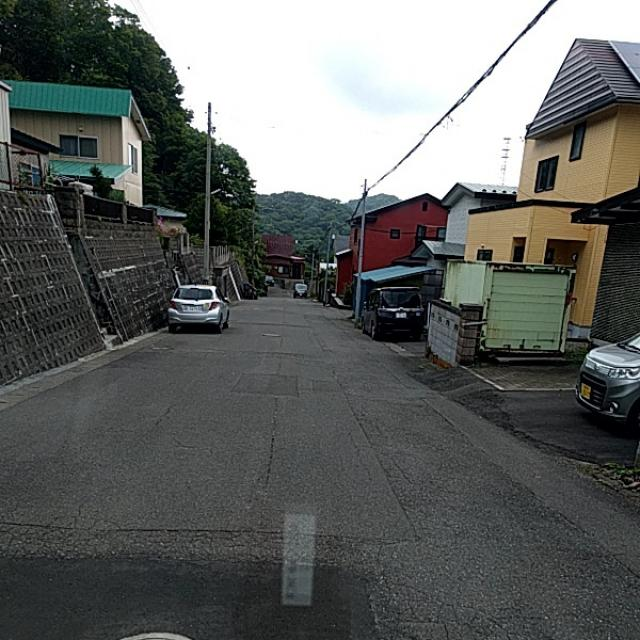pothole: (363, 501, 549, 621)
